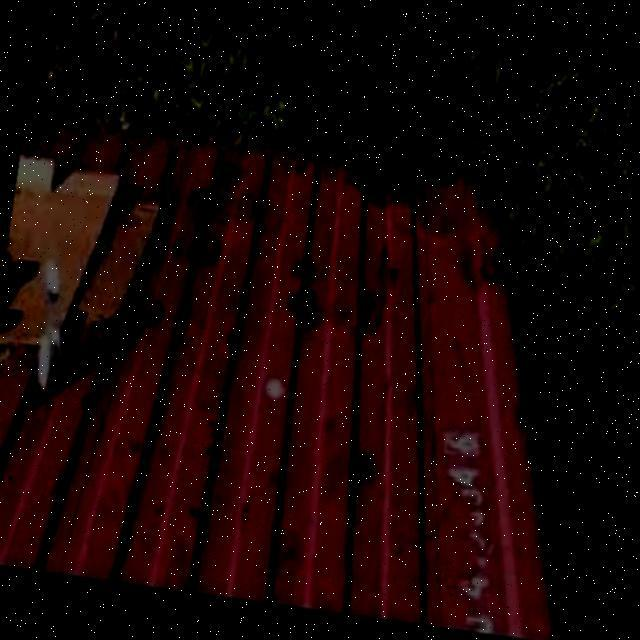hole: (361, 162, 396, 194)
